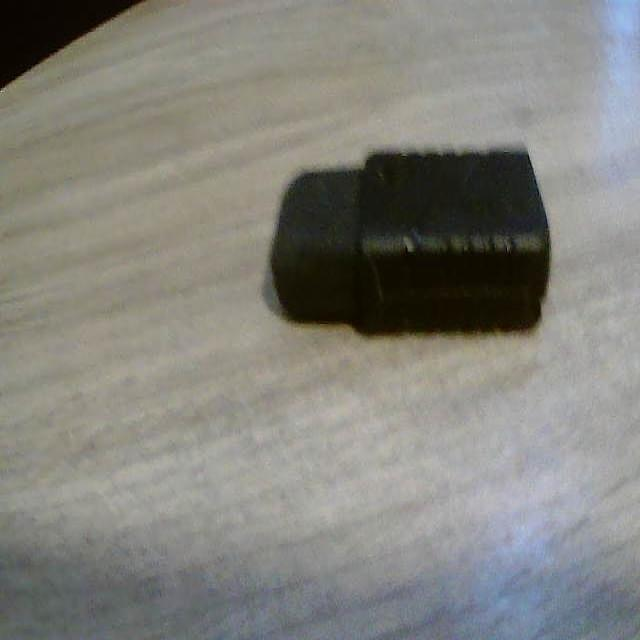borracha: (245, 128, 578, 376)
